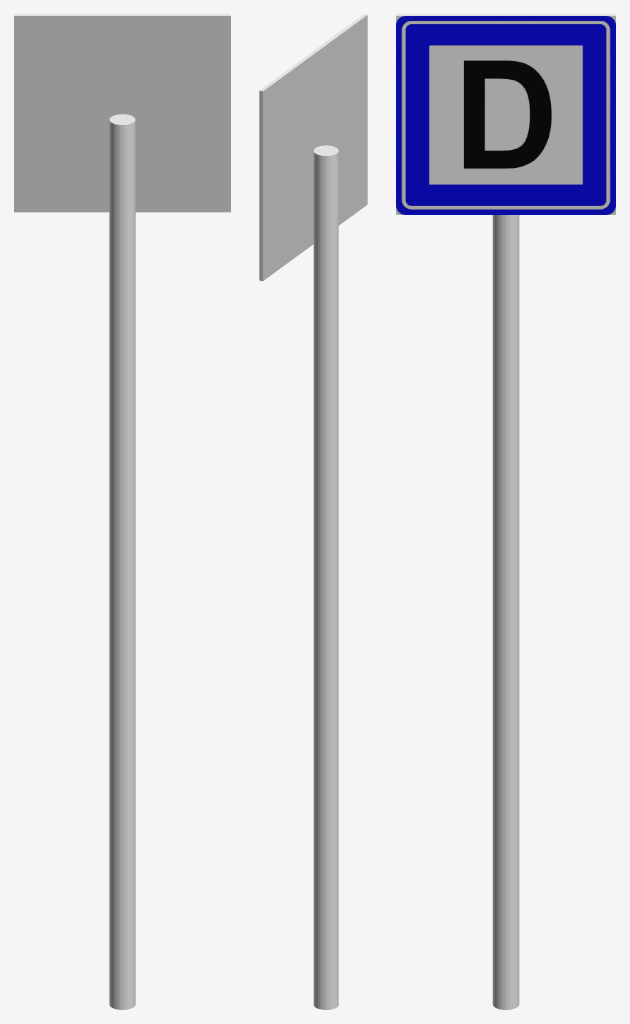
Rendered from Durak.dae.
3 views of the same model, side by side, from view 1: azimuth 90°, elevation 25°; view 2: azimuth 150°, elevation 25°; view 3: azimuth 270°, elevation 25° (orthographic). The views are drawn at different scales.
Visible parts, largest first — view 1: DurakT; view 2: DurakT; view 3: DurakT.
Boxes of the visible parts, x1=… form: DurakT: x1=14, y1=14, x2=230, y2=1009; DurakT: x1=259, y1=14, x2=367, y2=1009; DurakT: x1=396, y1=14, x2=615, y2=1009.
Bounding box in the file's own units: 0.07 × 0.5 × 2.5.
Materials: 2 (1 with a texture image).
